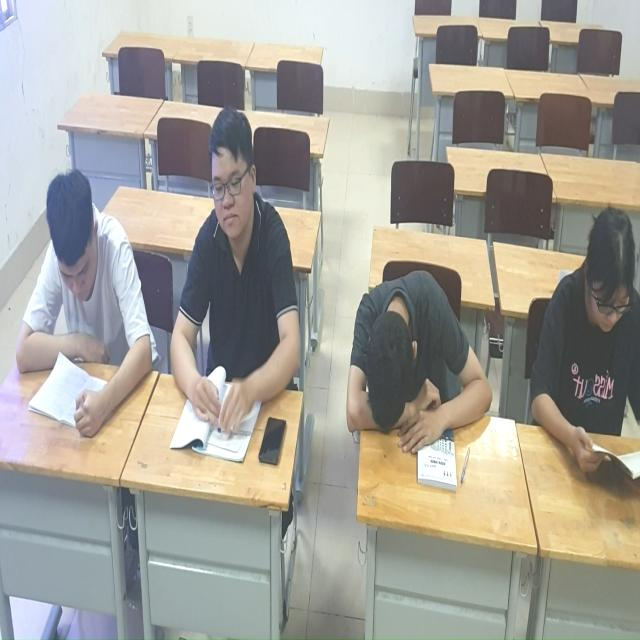read: (168, 104, 304, 491), (7, 156, 156, 438), (514, 204, 640, 502)
sleep: (346, 269, 503, 468)
